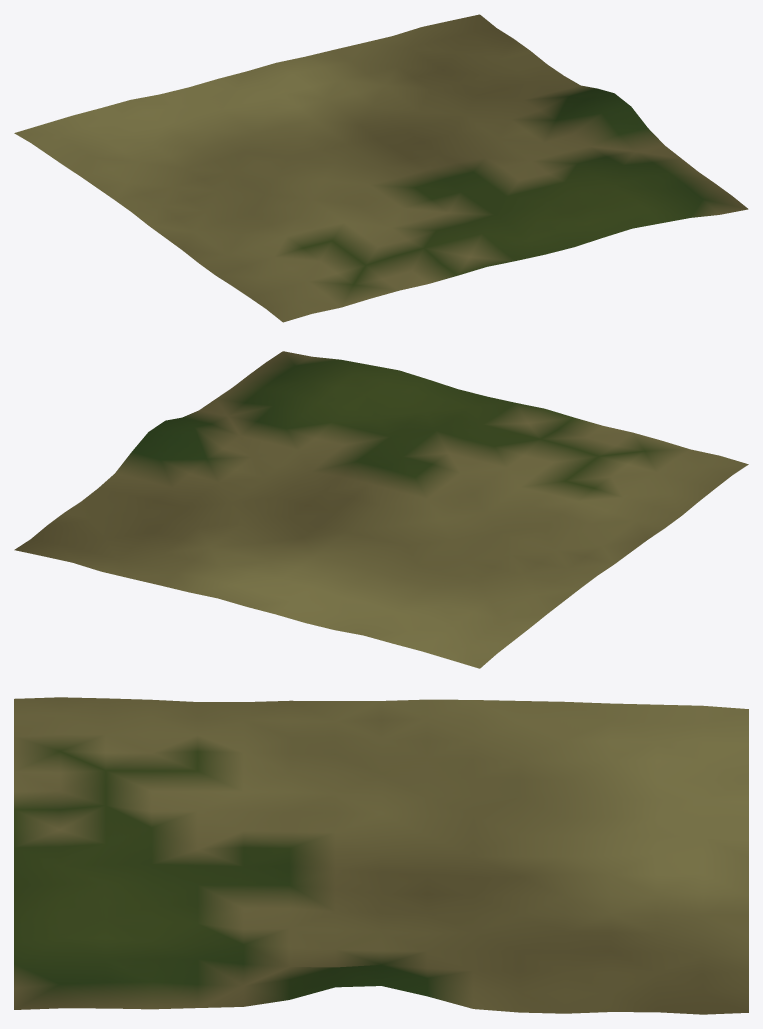
The model's file is terrain_lod1_-3_-3.obj.
3 views of the same model, one above another, from view 1: azimuth 30°, elevation 25°; view 2: azimuth 150°, elevation 25°; view 3: azimuth 270°, elevation 25° (orthographic). The views are drawn at different scales.
Visible parts, largest first — view 1: terrain_lod1_-3_-3; view 2: terrain_lod1_-3_-3; view 3: terrain_lod1_-3_-3.
Boxes of the visible parts, x1,y1,x2,y2 form: terrain_lod1_-3_-3: (14,14,748,322); terrain_lod1_-3_-3: (14,351,748,668); terrain_lod1_-3_-3: (14,697,748,1014).
Size of the model in its own units: 128 by 6.58 by 128.
